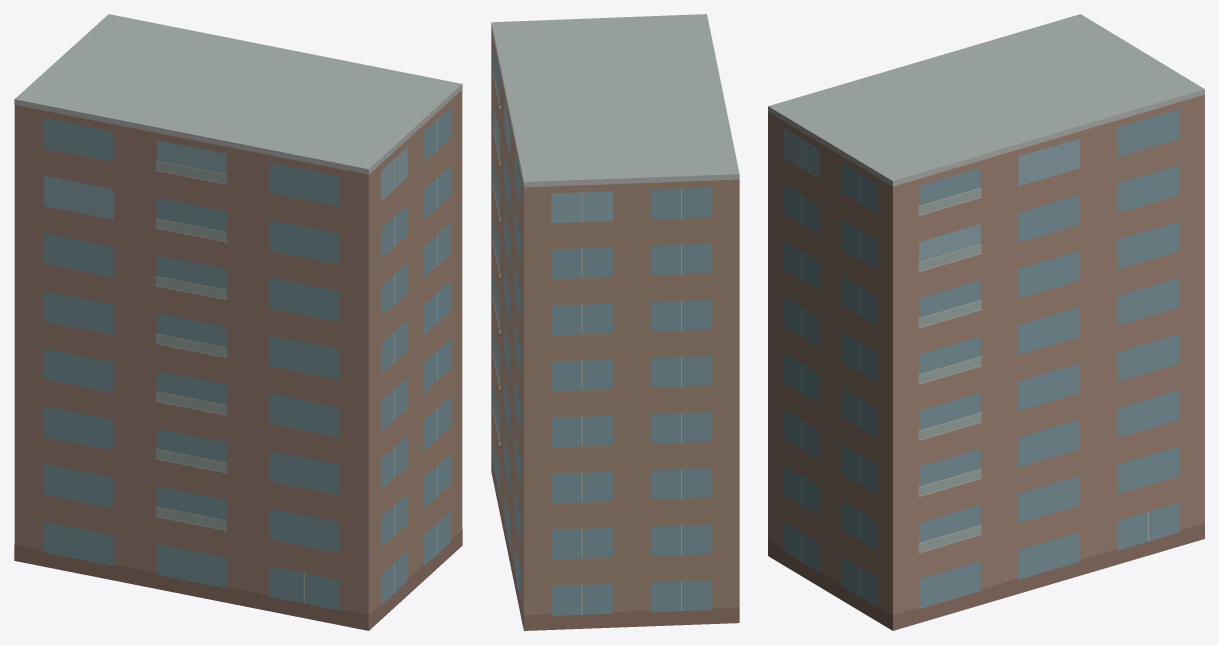
Rendered from survey-upis-33010300.glb.
3 views of the same model, side by side, from view 1: azimuth 30°, elevation 25°; view 2: azimuth 150°, elevation 25°; view 3: azimuth 270°, elevation 25° (orthographic). The views are drawn at different scales.
Visible parts, largest first — view 1: survey-upis-33010300.tmp; view 2: survey-upis-33010300.tmp; view 3: survey-upis-33010300.tmp.
Part boxes in pixels (x1=…): survey-upis-33010300.tmp: x1=14, y1=14, x2=462, y2=630; survey-upis-33010300.tmp: x1=491, y1=14, x2=739, y2=630; survey-upis-33010300.tmp: x1=768, y1=14, x2=1204, y2=630.
Bounding box in the file's own units: 16.27 × 20.4 × 17.96.
